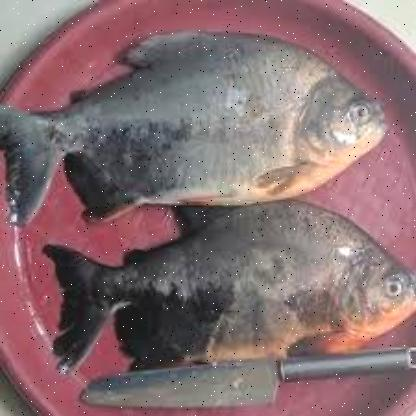ikan-pacu: (11, 33, 385, 222), (47, 203, 414, 367)
